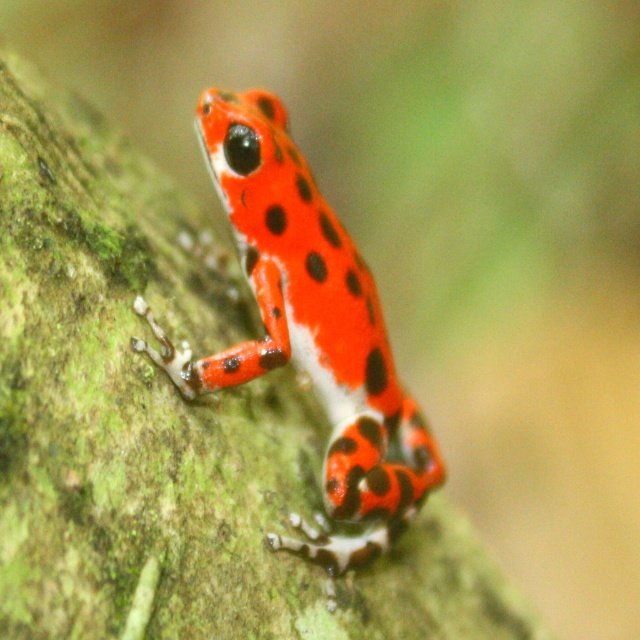Frog: (128, 82, 448, 614)
